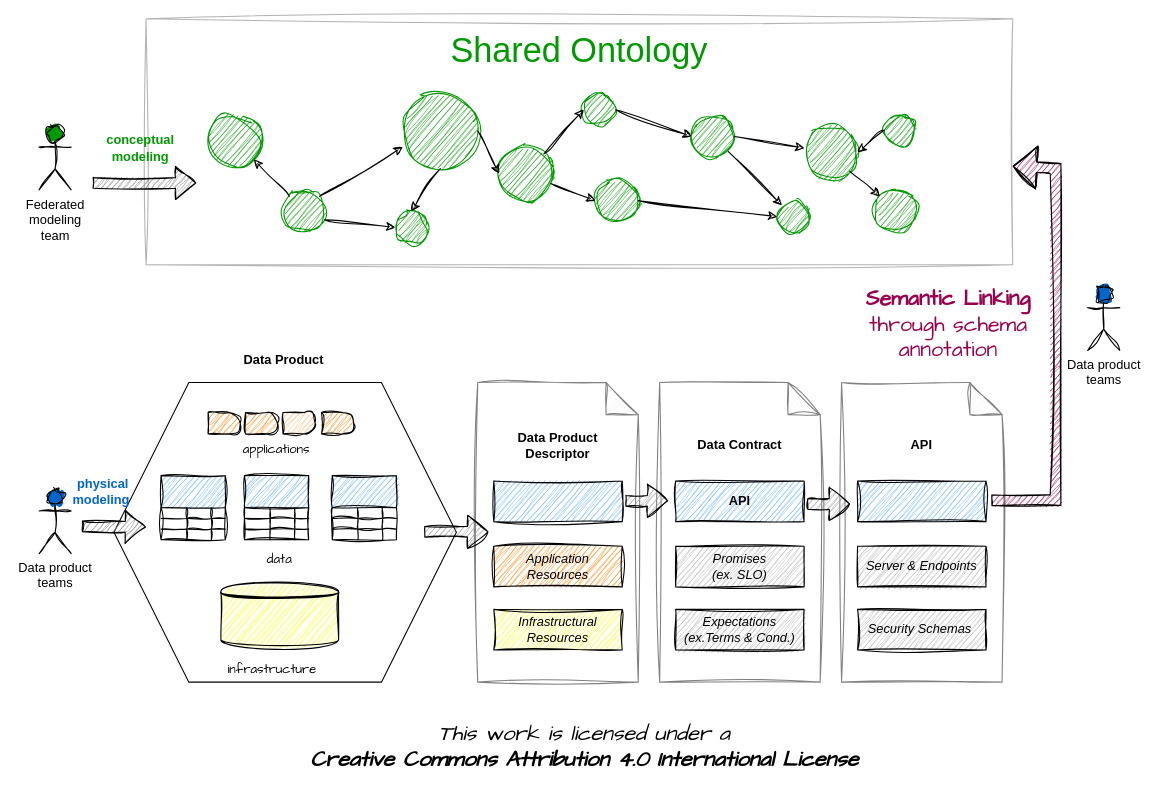
The diagram is 1160 pixels wide and 797 high, and some of its shapes have lost their labels. Each missing label, with the centre of its shape:
"Data Contract (aka Ports)" belongs at (557,501).
"Data Schemas" belongs at (921,501).
